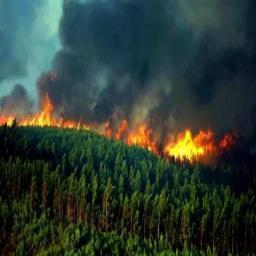Heavy smoke: (30, 0, 256, 143)
Medium fire: (0, 78, 250, 193)
